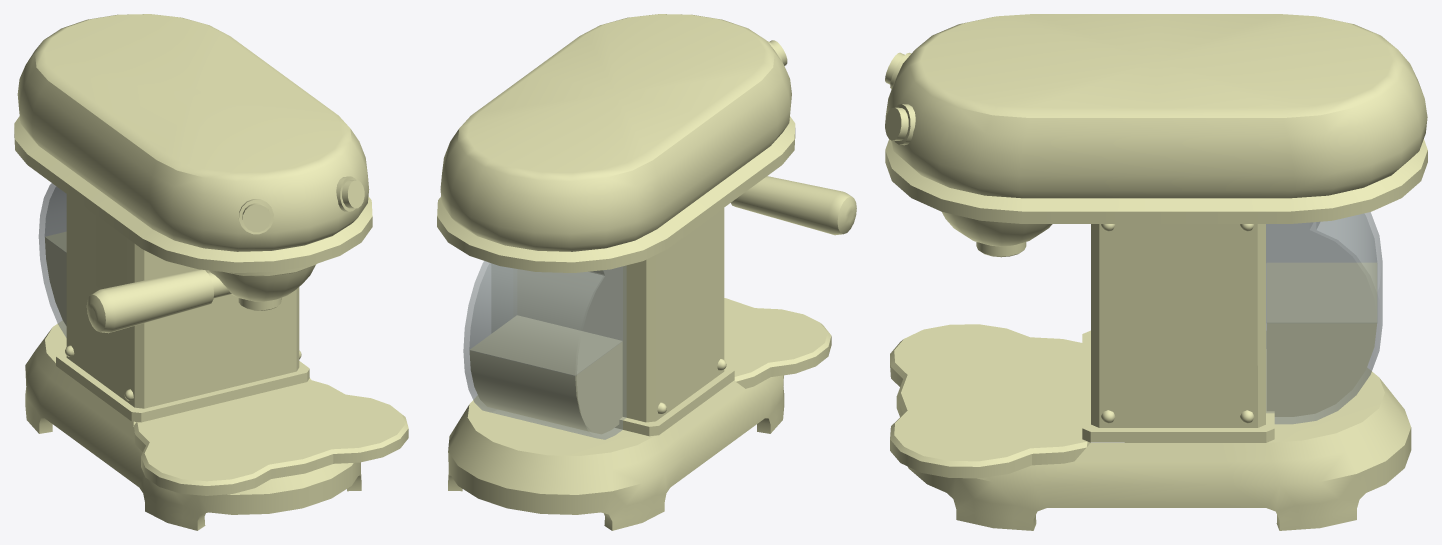
File: PROPS_OTHER_COFFEEMACHINE_MODEL 1.fbx
The picture shows the model from 3 angles, left to right: view 1: azimuth 30°, elevation 25°; view 2: azimuth 150°, elevation 25°; view 3: azimuth 270°, elevation 25°; orthographic projection. The views are drawn at different scales.
Visible parts, largest first — view 1: Models_PROPS_OTHER_COFFEEMACHINE_MODEL1_PROPS_OTHER_COFFEEMA; view 2: Models_PROPS_OTHER_COFFEEMACHINE_MODEL1_PROPS_OTHER_COFFEEMA; view 3: Models_PROPS_OTHER_COFFEEMACHINE_MODEL1_PROPS_OTHER_COFFEEMA.
Part boxes in pixels (x1=…): Models_PROPS_OTHER_COFFEEMACHINE_MODEL1_PROPS_OTHER_COFFEEMA: x1=14, y1=14, x2=408, y2=530; Models_PROPS_OTHER_COFFEEMACHINE_MODEL1_PROPS_OTHER_COFFEEMA: x1=437, y1=14, x2=856, y2=530; Models_PROPS_OTHER_COFFEEMACHINE_MODEL1_PROPS_OTHER_COFFEEMA: x1=885, y1=14, x2=1427, y2=530.
Size of the model in its own units: 43.5 by 50.59 by 60.33.
